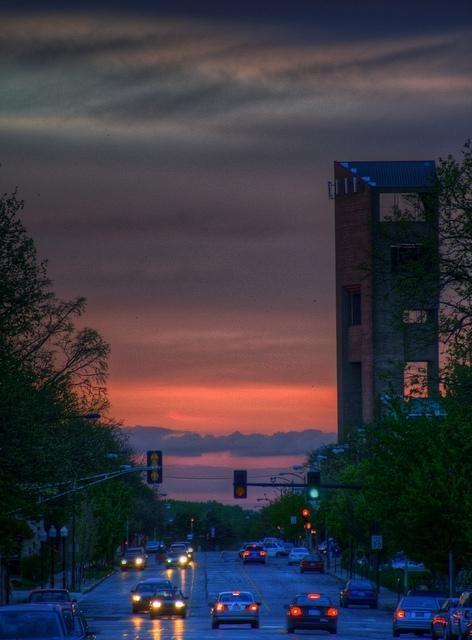car: (391, 594, 442, 638), (282, 594, 337, 634), (212, 592, 260, 630), (129, 581, 169, 614), (148, 588, 188, 620), (340, 579, 379, 610), (432, 597, 460, 640), (23, 590, 78, 604), (122, 548, 150, 572), (300, 554, 326, 574), (243, 546, 265, 564), (288, 548, 309, 564), (262, 542, 284, 557)
